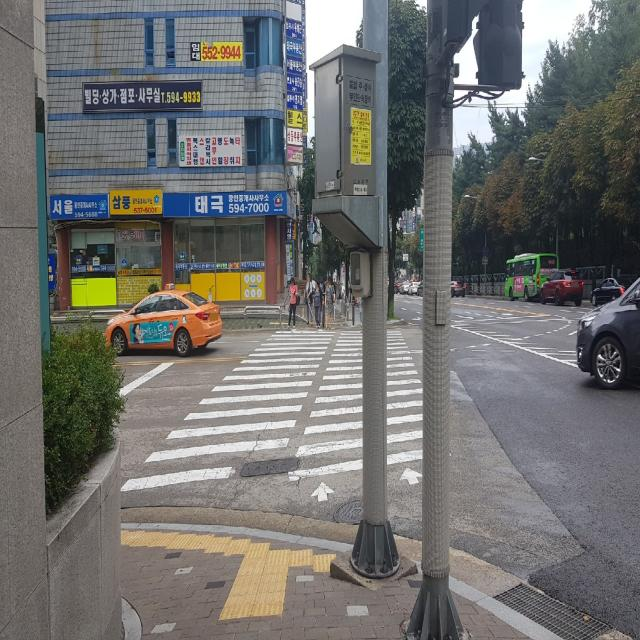횡단보도: (119, 326, 423, 502)
